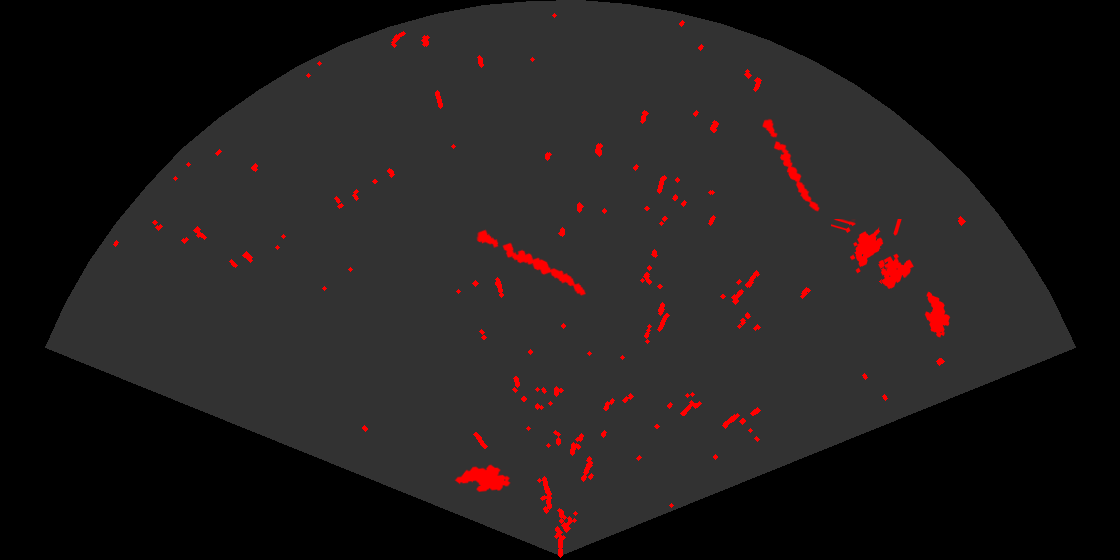AUV: (453, 463, 512, 494), (923, 290, 952, 339)
cage: (831, 219, 915, 291)
chain: (475, 228, 588, 297), (761, 117, 821, 213)
